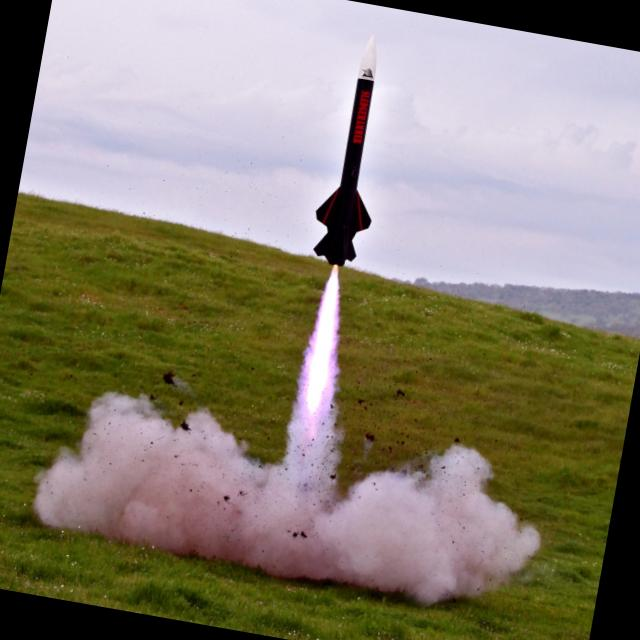rocket: (296, 30, 395, 359)
